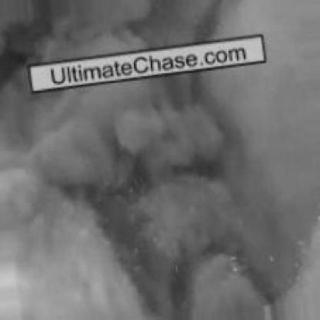Smoke: (13, 2, 317, 290)
